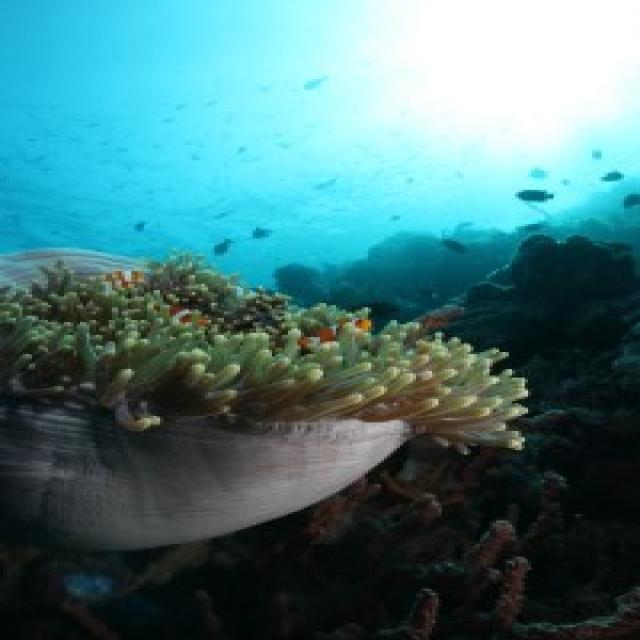Bleached: (4, 400, 407, 551)
Healthy: (1, 261, 526, 453)
